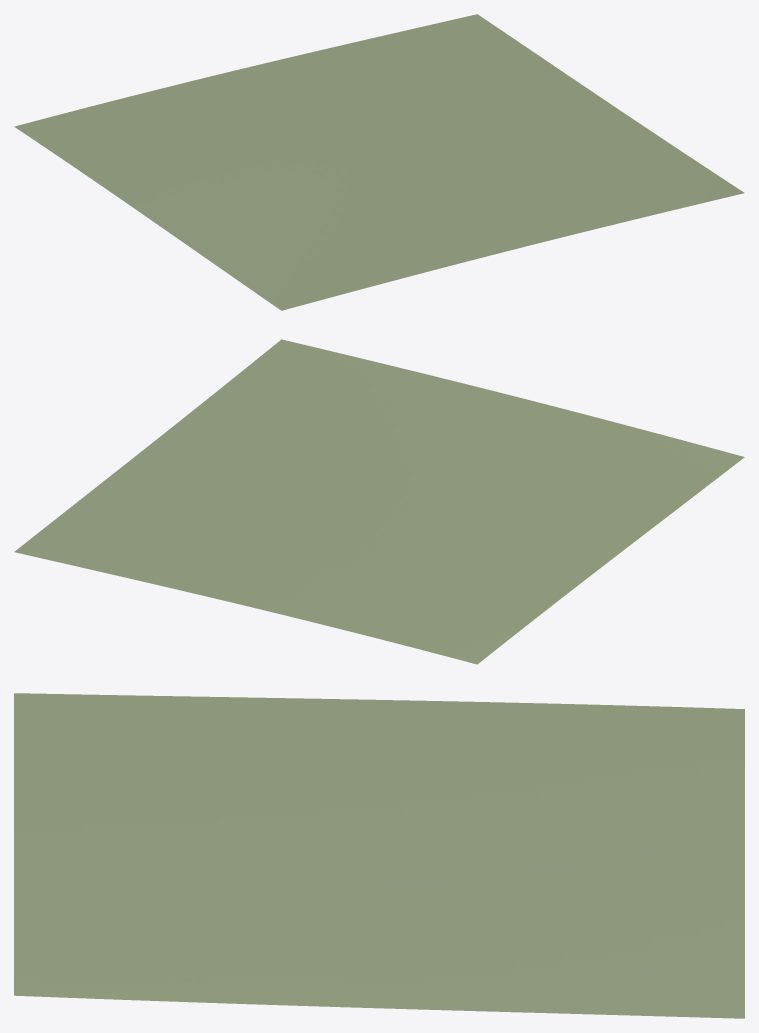
The model's file is expanse-28-0.glb.
3 renders of one model, top to bottom at view 1: azimuth 30°, elevation 25°; view 2: azimuth 150°, elevation 25°; view 3: azimuth 270°, elevation 25°, orthographic. The views are drawn at different scales.
Visible parts, largest first — view 1: expanse-28-0; view 2: expanse-28-0; view 3: expanse-28-0.
Boxes of the visible parts, x1=… form: expanse-28-0: x1=14, y1=14, x2=744, y2=310; expanse-28-0: x1=14, y1=339, x2=744, y2=664; expanse-28-0: x1=14, y1=693, x2=744, y2=1018.
Size of the model in its own units: 256 by 9.14 by 256.
